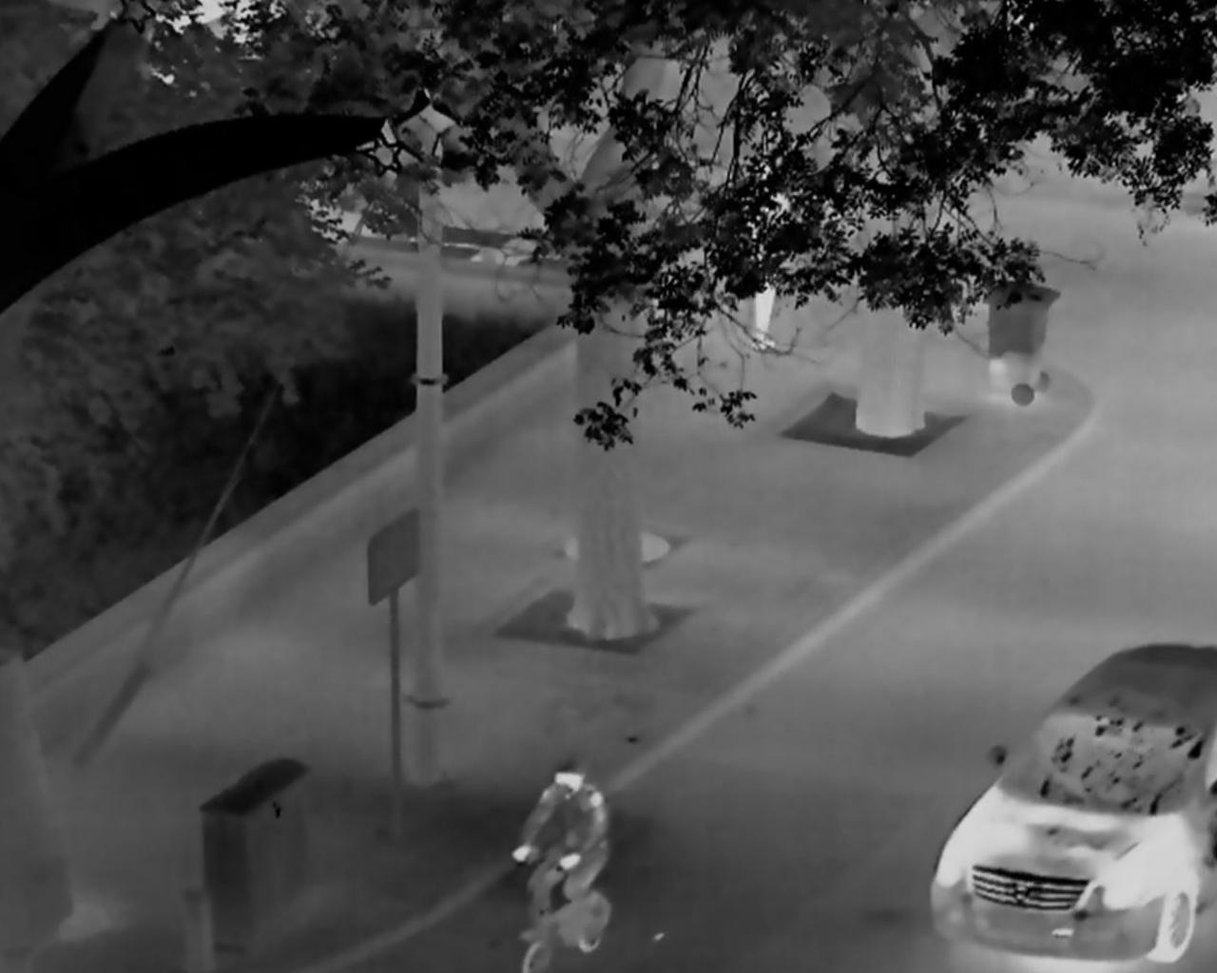person: (511, 755, 608, 941), (742, 188, 791, 353)
